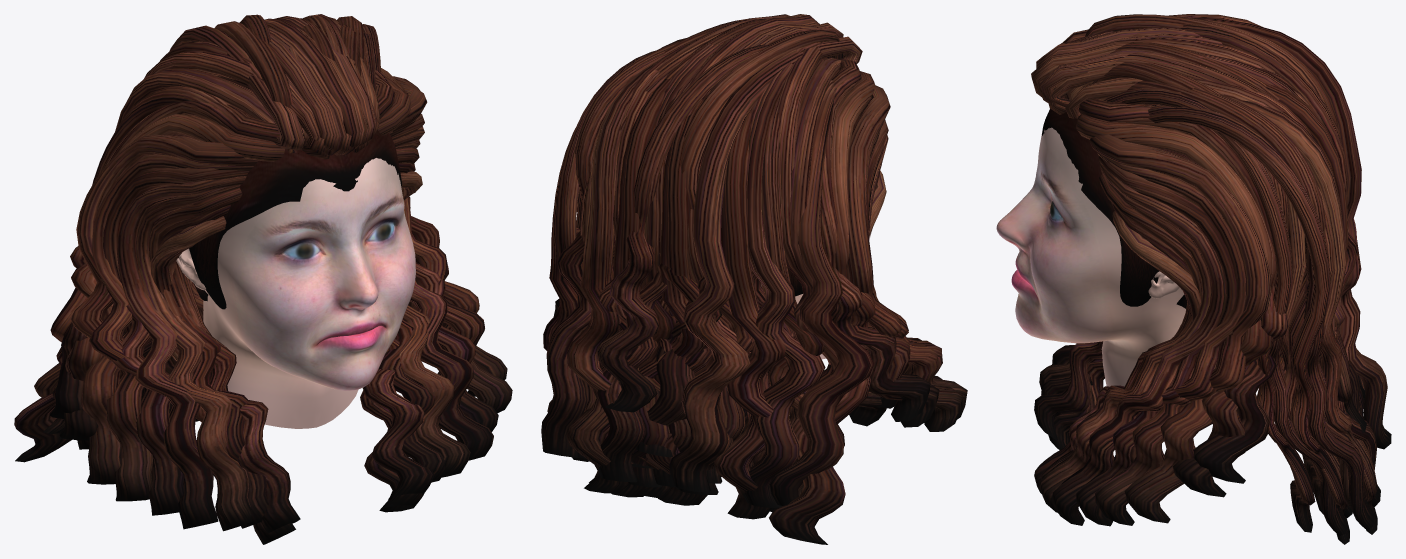
File: depress.obj
The picture shows the model from 3 angles, left to right: view 1: azimuth 30°, elevation 25°; view 2: azimuth 150°, elevation 25°; view 3: azimuth 270°, elevation 25°; orthographic projection. The views are drawn at different scales.
Visible parts, largest first — view 1: depress; view 2: depress; view 3: depress.
Boxes of the visible parts, x1=… form: depress: x1=14, y1=14, x2=512, y2=544; depress: x1=541, y1=14, x2=967, y2=544; depress: x1=996, y1=14, x2=1391, y2=544.
Size of the model in its own units: 365 by 387 by 298.
